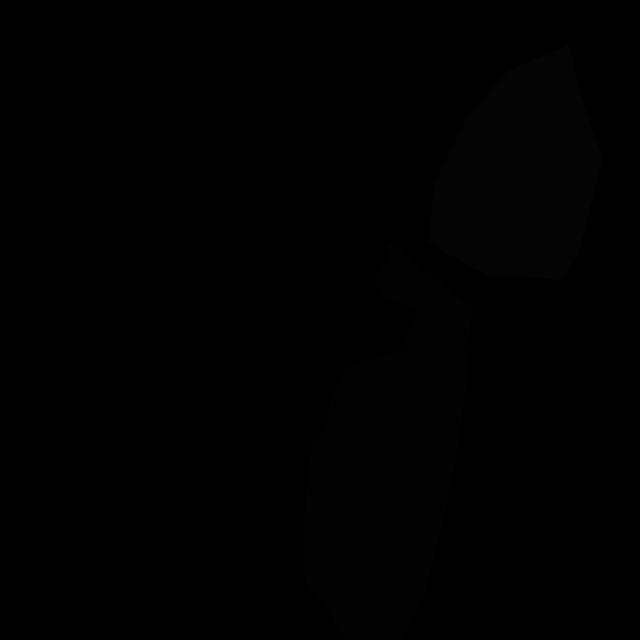cardboard: (302, 347, 468, 640), (373, 241, 472, 351)
soft_plastic: (428, 44, 603, 281)
